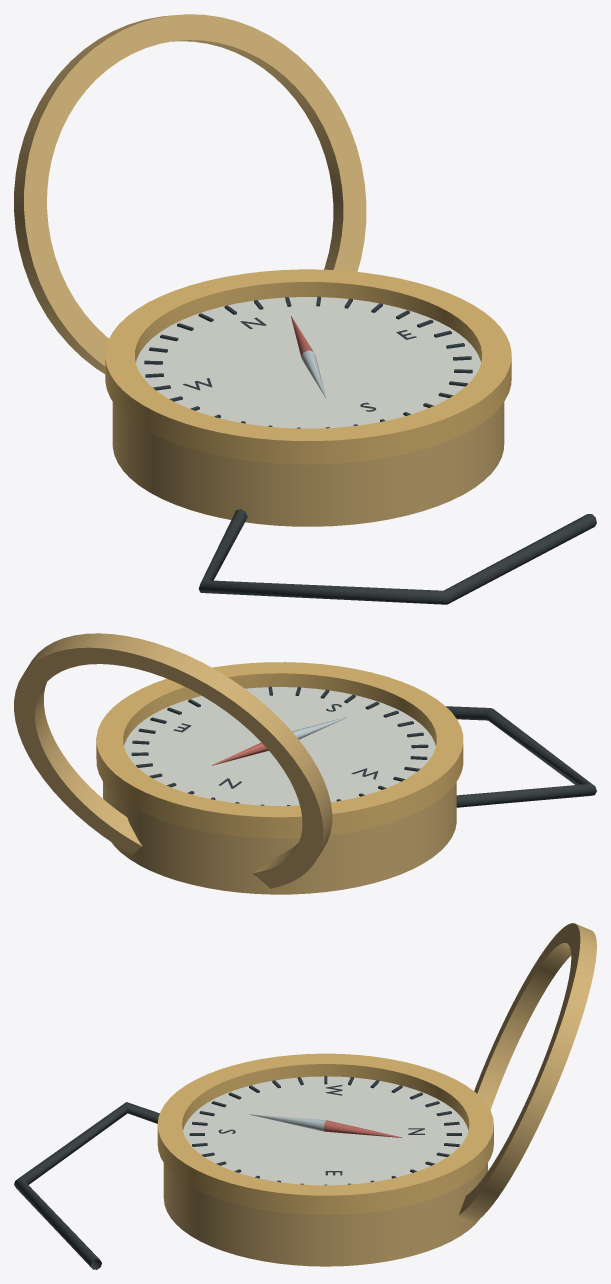
File: loot_antique_compass.glb
3 renders of one model, top to bottom at view 1: azimuth 30°, elevation 25°; view 2: azimuth 150°, elevation 25°; view 3: azimuth 270°, elevation 25°, orthographic. The views are drawn at different scales.
Parts seen in each view (by area): view 1: loot_antique_compass; view 2: loot_antique_compass; view 3: loot_antique_compass.
Part boxes in pixels (<box>): loot_antique_compass: <box>14,14,596,604</box>; loot_antique_compass: <box>14,633,596,894</box>; loot_antique_compass: <box>14,923,596,1269</box>.
Size of the model in its own units: 0.127 by 0.0984 by 0.1907.
